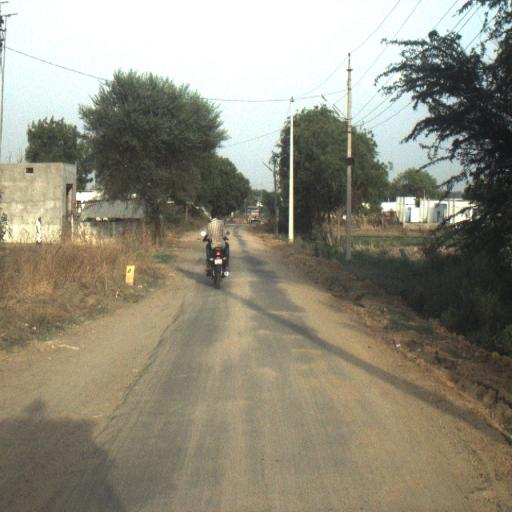street_light_0: (321, 93, 352, 135), (262, 160, 276, 178)
